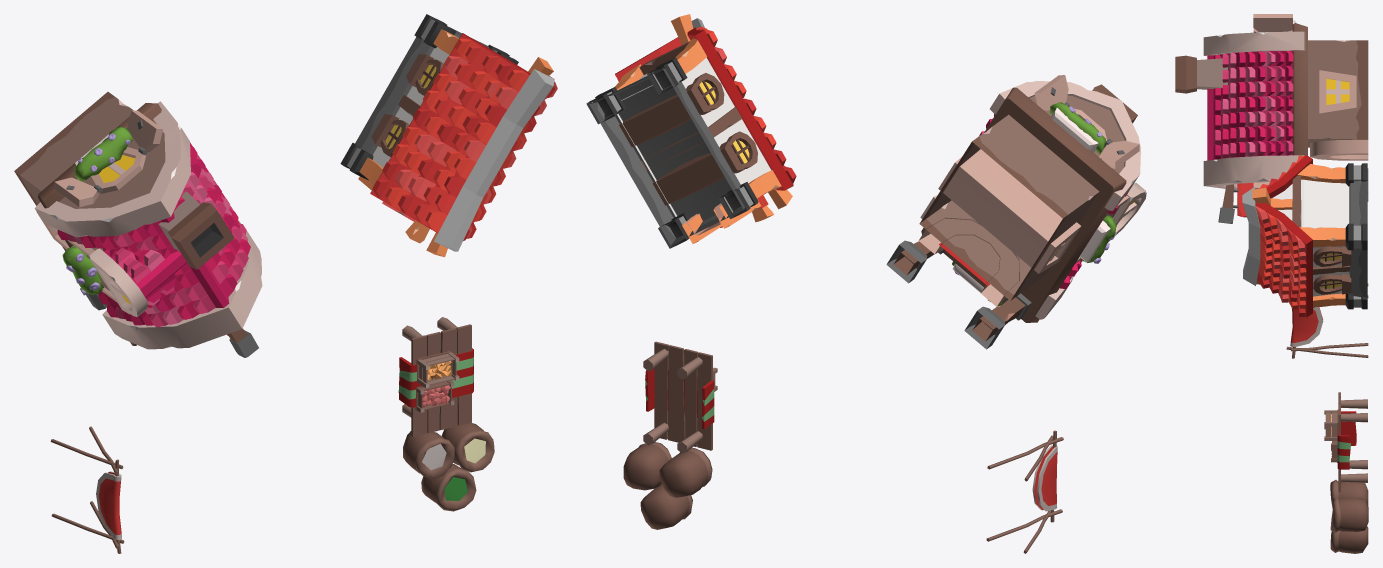
The picture shows the model from 3 angles, left to right: view 1: azimuth 30°, elevation 25°; view 2: azimuth 150°, elevation 25°; view 3: azimuth 270°, elevation 25°; orthographic projection. The views are drawn at different scales.
Parts seen in each view (by area): view 1: house_002, house_003, table_001, bag_001, holder_001; view 2: house_002, house_003, table_001, bag_001, holder_001; view 3: house_002, house_003, bag_001, table_001, holder_001.
Part boxes in pixels (x1,y1,x2,y2): house_002: [14, 92, 262, 357]; house_003: [340, 14, 557, 257]; table_001: [398, 317, 473, 436]; bag_001: [403, 423, 494, 511]; holder_001: [50, 426, 124, 553]; house_002: [886, 75, 1146, 349]; house_003: [586, 14, 796, 248]; table_001: [643, 341, 717, 453]; bag_001: [623, 442, 712, 529]; holder_001: [986, 430, 1063, 553]; house_002: [1175, 14, 1368, 223]; house_003: [1242, 155, 1367, 317]; bag_001: [1330, 480, 1368, 553]; table_001: [1324, 392, 1367, 492]; holder_001: [1286, 283, 1368, 358].
Size of the model in its own units: 0.8652 by 0.8031 by 0.3498.
Materials: 6 (6 with a texture image).
